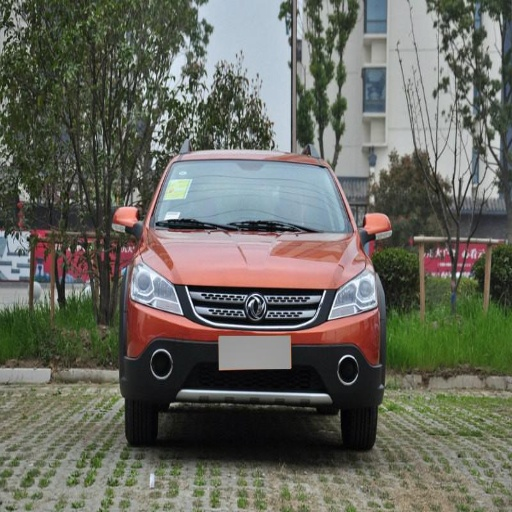front_bumper: (122, 284, 382, 409)
front_right_light: (129, 257, 181, 314)
hood: (142, 227, 364, 288)
